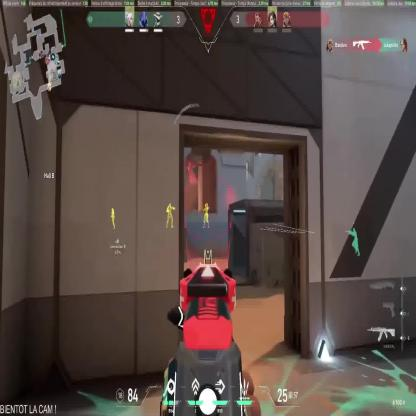enemy: (166, 203, 175, 228), (203, 202, 209, 228), (111, 206, 115, 230)
enemy_head: (205, 203, 208, 208), (111, 208, 113, 211), (169, 203, 171, 206)
